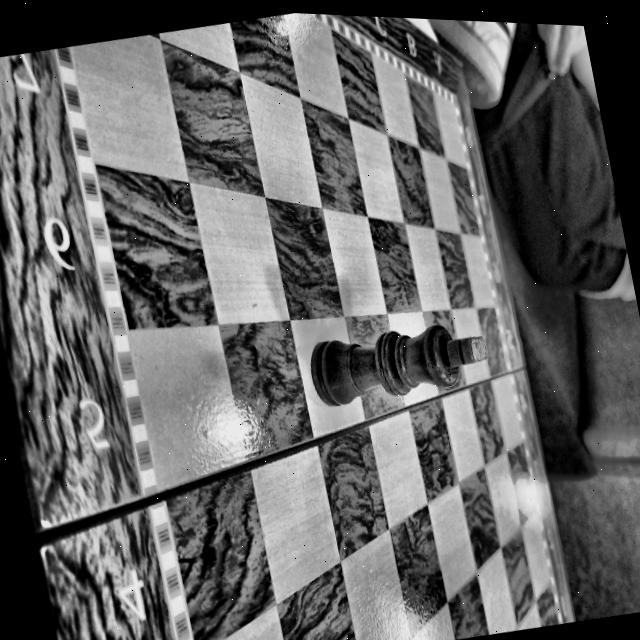black-king: (311, 323, 487, 409)
